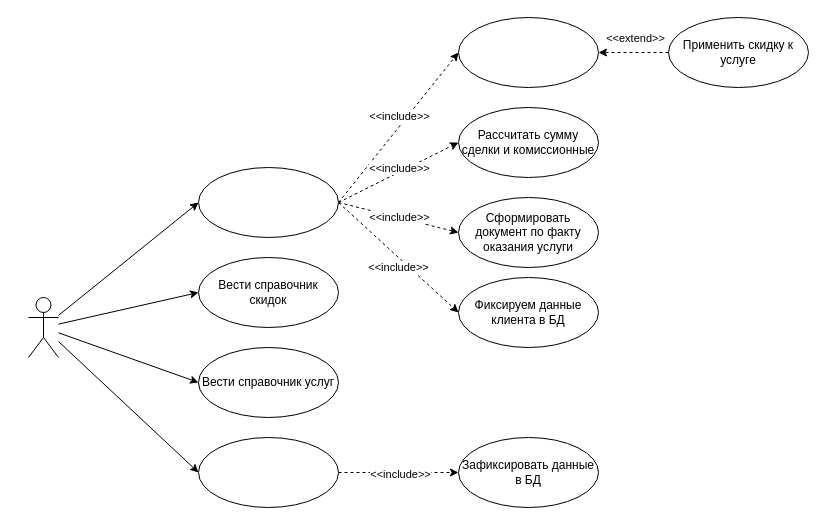
This 826x525 diagram has some shape labels left out. The shapes that lost their labels are listed below. From the top down, each one's centre as x and y in pixels, then its label:
At pixel 528 52: "Добавить услугу в сделку".
At pixel 268 202: "Оформить сделку".
At pixel 43 327: "Нотариус".
At pixel 268 472: "Зарегистрировать клиента".
